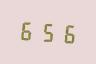five: (38, 19, 56, 44)
six: (18, 18, 36, 43), (57, 20, 75, 45)
